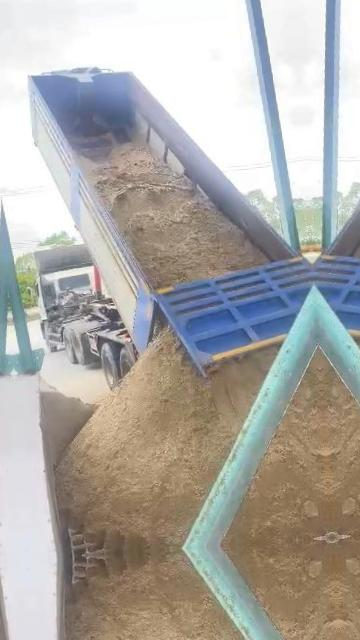sand: (56, 330, 276, 551), (75, 141, 268, 288), (226, 356, 332, 543)
